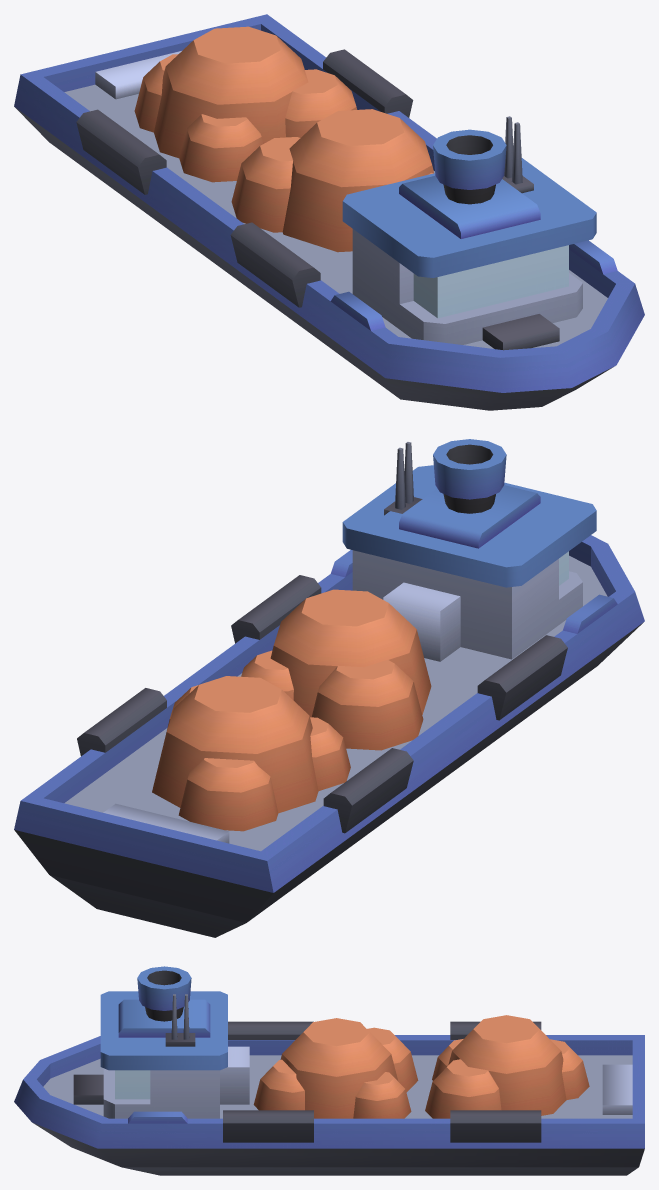
File: ship-cargo-b-transformed.glb
The picture shows the model from 3 angles, top to bottom: view 1: azimuth 30°, elevation 25°; view 2: azimuth 150°, elevation 25°; view 3: azimuth 270°, elevation 25°; orthographic projection. The views are drawn at different scales.
Parts seen in each view (by area): view 1: ship-cargo-b, cargo-b, cargo-a; view 2: ship-cargo-b, cargo-b, cargo-a; view 3: ship-cargo-b, cargo-a, cargo-b.
Part boxes in pixels (<box>): ship-cargo-b: <box>14,14,644,410</box>; cargo-b: <box>134,26,357,182</box>; cargo-a: <box>231,109,433,252</box>; ship-cargo-b: <box>14,439,644,937</box>; cargo-b: <box>152,676,350,831</box>; cargo-a: <box>241,589,431,750</box>; ship-cargo-b: <box>14,966,644,1175</box>; cargo-a: <box>253,1018,418,1118</box>; cargo-b: <box>425,1015,589,1118</box>.
Bounding box in the file's own units: 3.92 × 3.3 × 10.55.
1 material, 1 textured.
